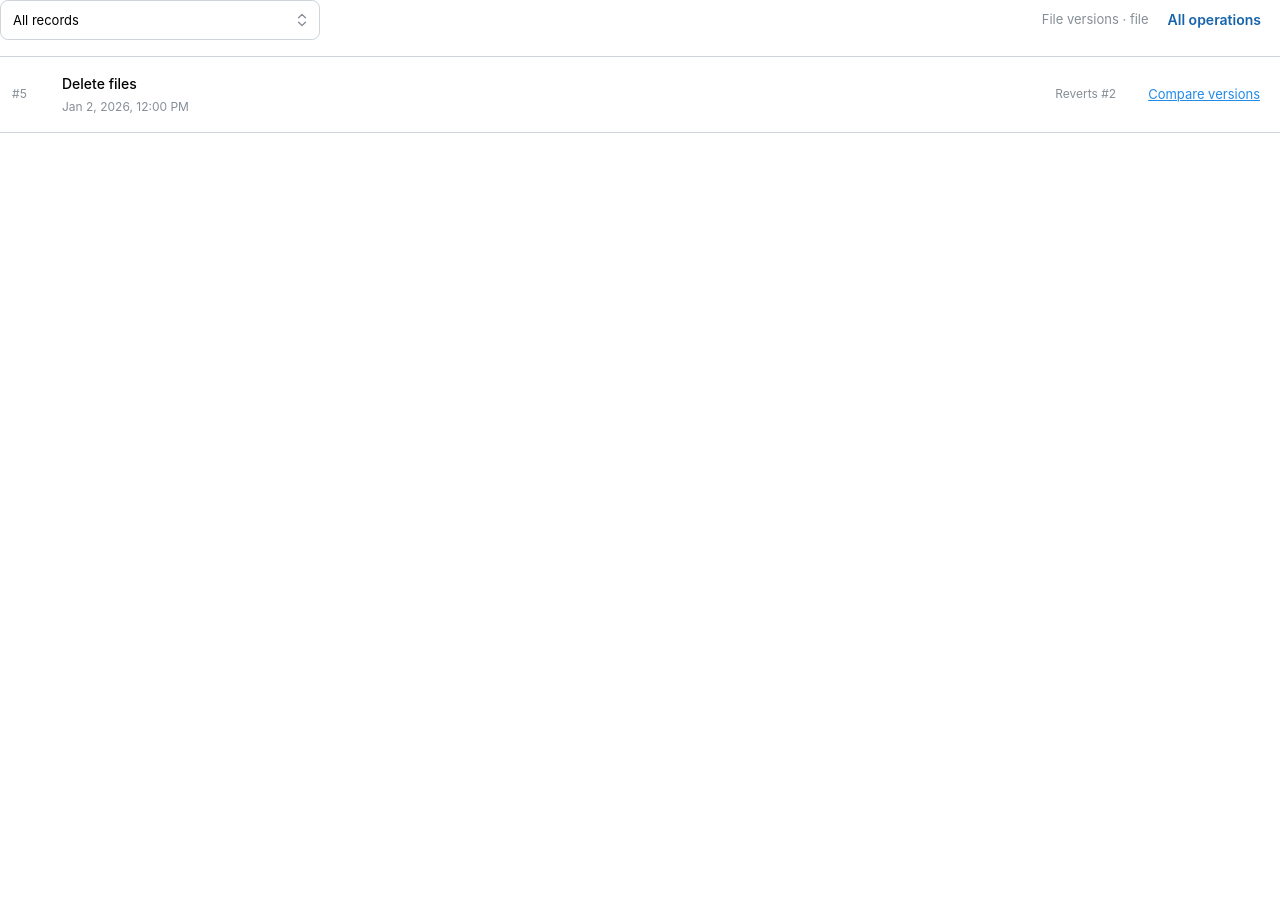
does not disguise a missing cutoff as a file deletion
Click the button "Compare versions": (1204, 94) 1140,78 -> 1268,110
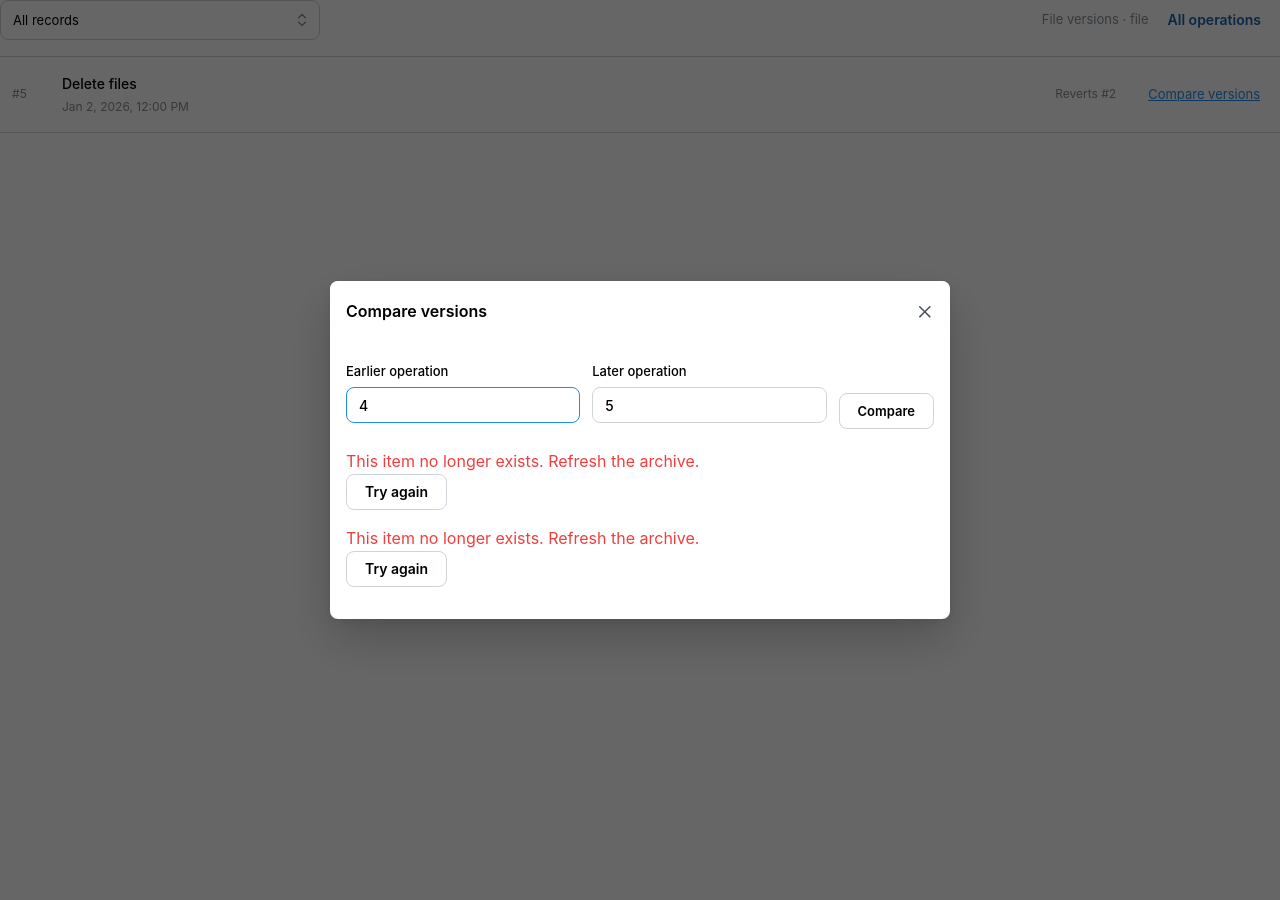
Now the number of messages is 2, box 346,451 -> 699,510; 346,528 -> 699,587
